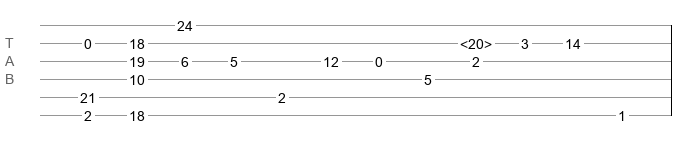0: (84, 36, 92, 46), (375, 54, 383, 64)
1: (618, 108, 626, 118)
10: (129, 72, 145, 82)
12: (323, 54, 339, 64)
14: (565, 36, 581, 46)
18: (129, 108, 145, 118), (129, 36, 145, 46)
19: (129, 54, 145, 64)
2: (84, 108, 92, 118), (278, 90, 286, 100), (472, 54, 480, 64)
21: (80, 90, 96, 100)
24: (177, 18, 193, 28)
3: (521, 36, 529, 46)
5: (230, 54, 238, 64), (424, 72, 432, 82)
6: (181, 54, 189, 64)
harmonic: (460, 36, 492, 46)
